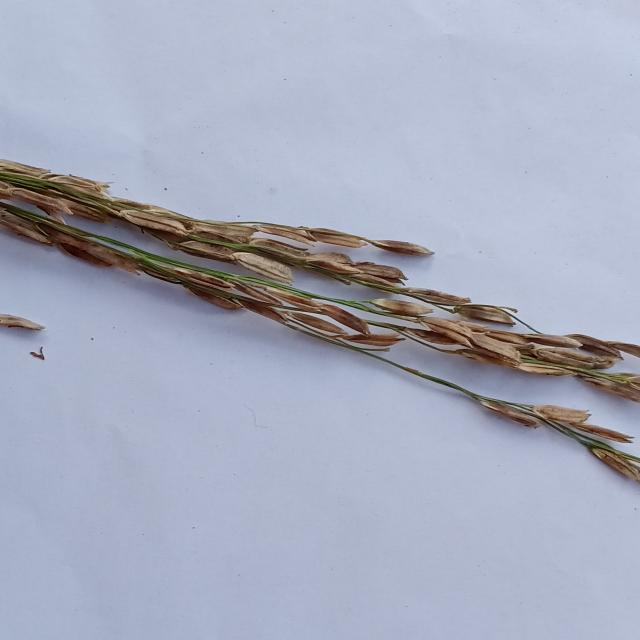Neck_Blast: (2, 160, 637, 402)
